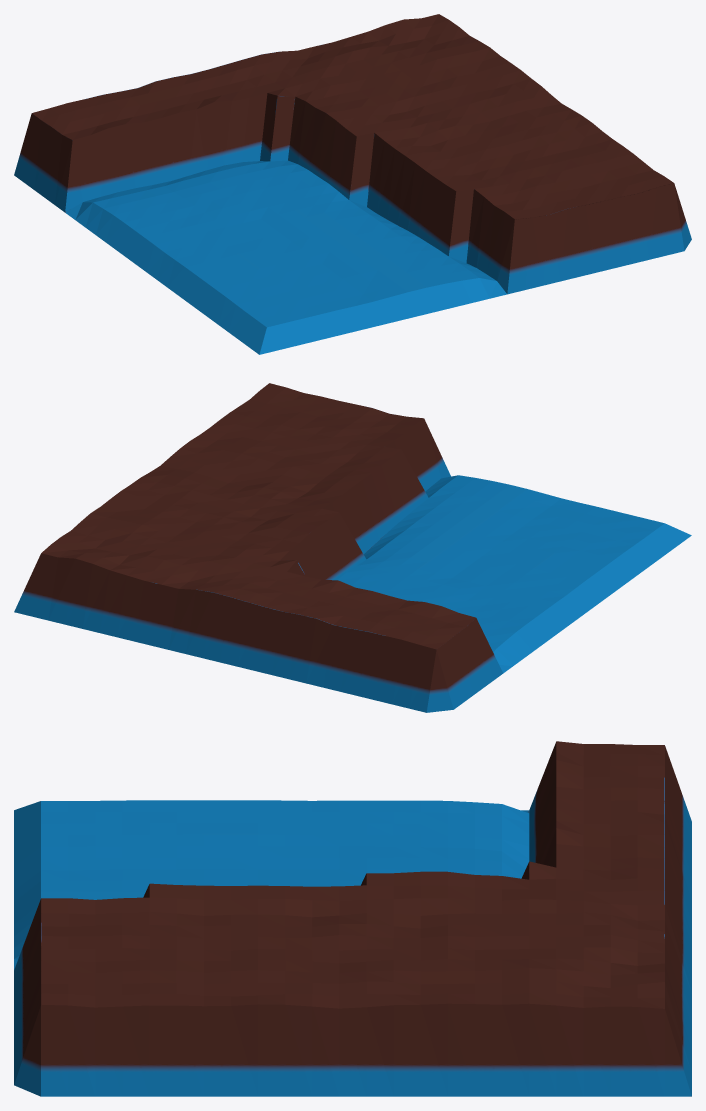
Rendered from Tile1.fbx.
The picture shows the model from 3 angles, top to bottom: view 1: azimuth 30°, elevation 25°; view 2: azimuth 150°, elevation 25°; view 3: azimuth 270°, elevation 25°; orthographic projection. The views are drawn at different scales.
Visible parts, largest first — view 1: ImageToStl.com_1; view 2: ImageToStl.com_1; view 3: ImageToStl.com_1.
Boxes of the visible parts, box(x1,y1,x2,y2) form: ImageToStl.com_1: box(14, 14, 691, 354); ImageToStl.com_1: box(14, 383, 691, 712); ImageToStl.com_1: box(14, 741, 691, 1096).
Bounding box in the file's own units: 10417 × 1482 × 10417.
1 material, 1 textured.
